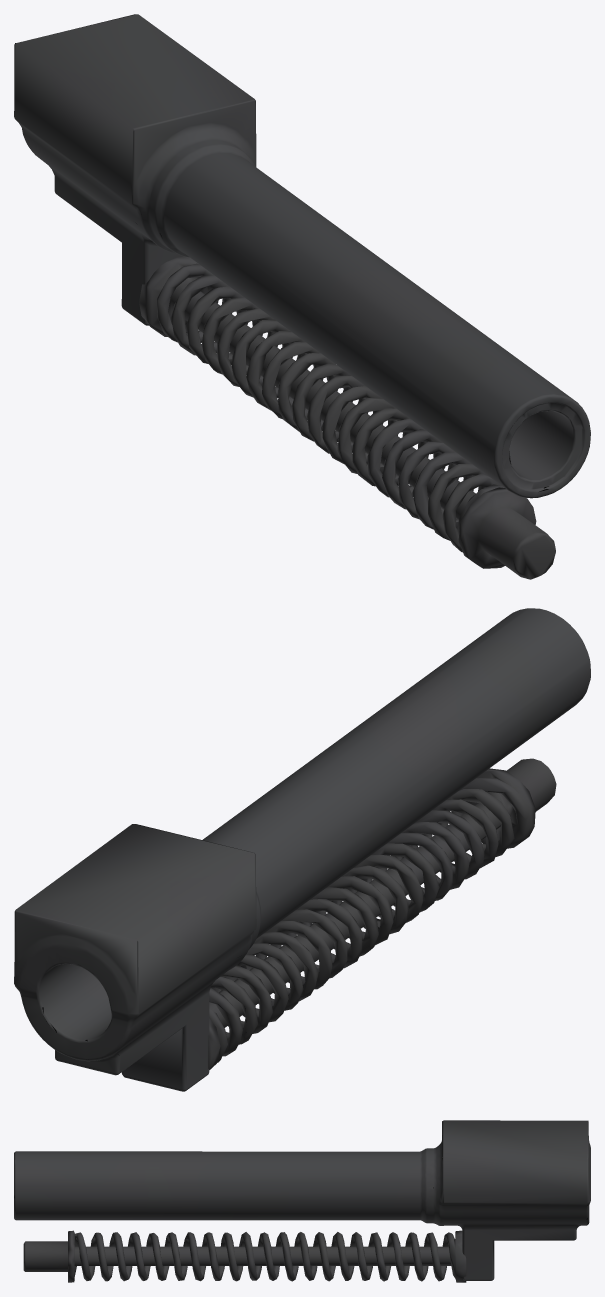
File: SM_G17_Barrel.fbx
3 views of the same model, one above another, from view 1: azimuth 30°, elevation 25°; view 2: azimuth 150°, elevation 25°; view 3: azimuth 270°, elevation 25° (orthographic). The views are drawn at different scales.
Parts seen in each view (by area): view 1: SM_G17_Barrel; view 2: SM_G17_Barrel; view 3: SM_G17_Barrel.
Boxes of the visible parts, <box> form: SM_G17_Barrel: <box>14,14,590,579</box>; SM_G17_Barrel: <box>14,608,590,1091</box>; SM_G17_Barrel: <box>14,1120,590,1282</box>.
Size of the model in its own units: 1.72 by 11.22 by 3.05.
